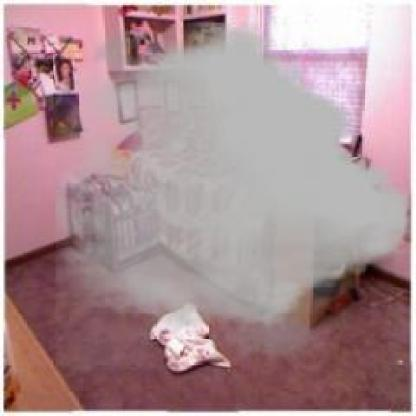Smoke: (56, 17, 412, 370)
